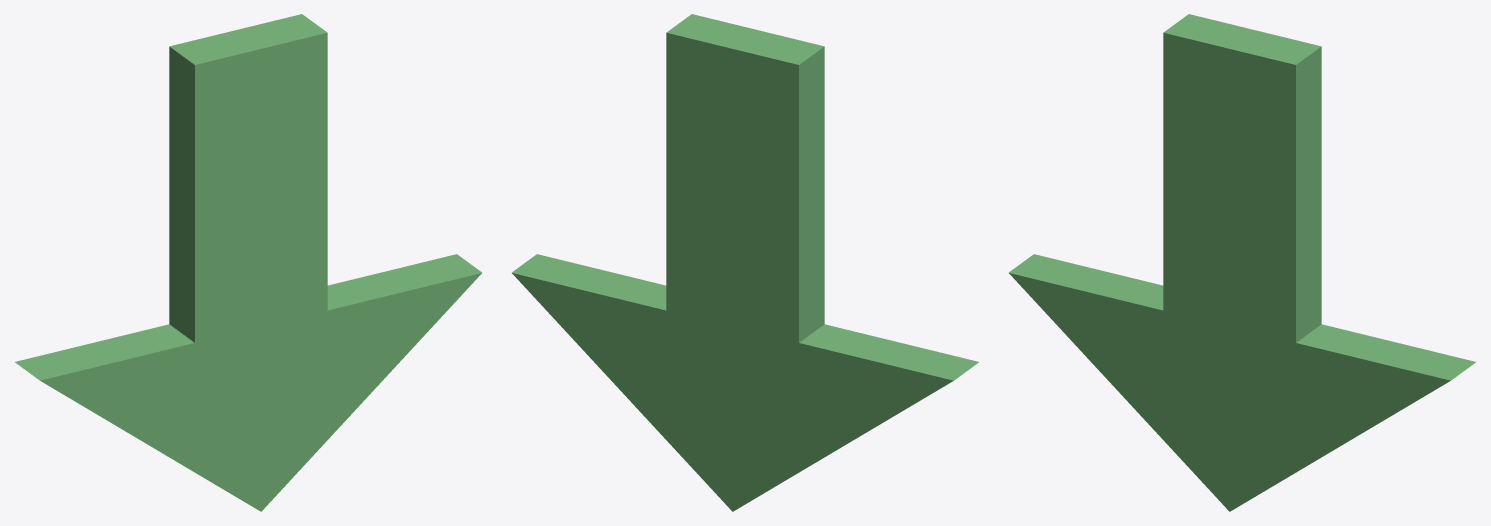
Rendered from hotspot-marker-arrow.glb.
The picture shows the model from 3 angles, left to right: view 1: azimuth 30°, elevation 25°; view 2: azimuth 150°, elevation 25°; view 3: azimuth 330°, elevation 25°; orthographic projection.
Parts seen in each view (by area): view 1: Arrow; view 2: Arrow; view 3: Arrow.
Boxes of the visible parts, box(x1,y1,x2,y2) form: Arrow: box(15, 14, 481, 511); Arrow: box(512, 14, 978, 511); Arrow: box(1009, 14, 1475, 511).
Size of the model in its own units: 1 by 1 by 0.1.
